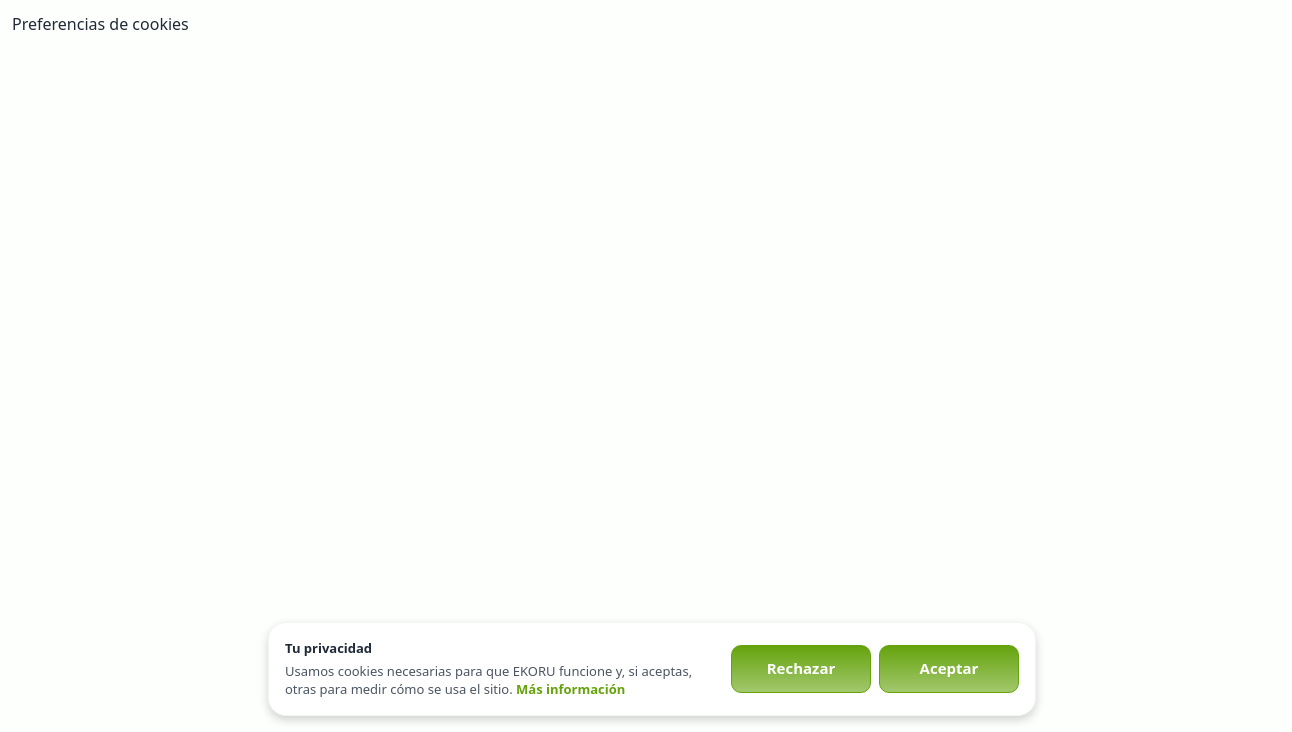
Test: ConsentBanner › stores a refusal just as easily
This screenshot has width=1292, height=732.
Click the button "Rechazar". click: (801, 669)
box: [731,645,871,693]
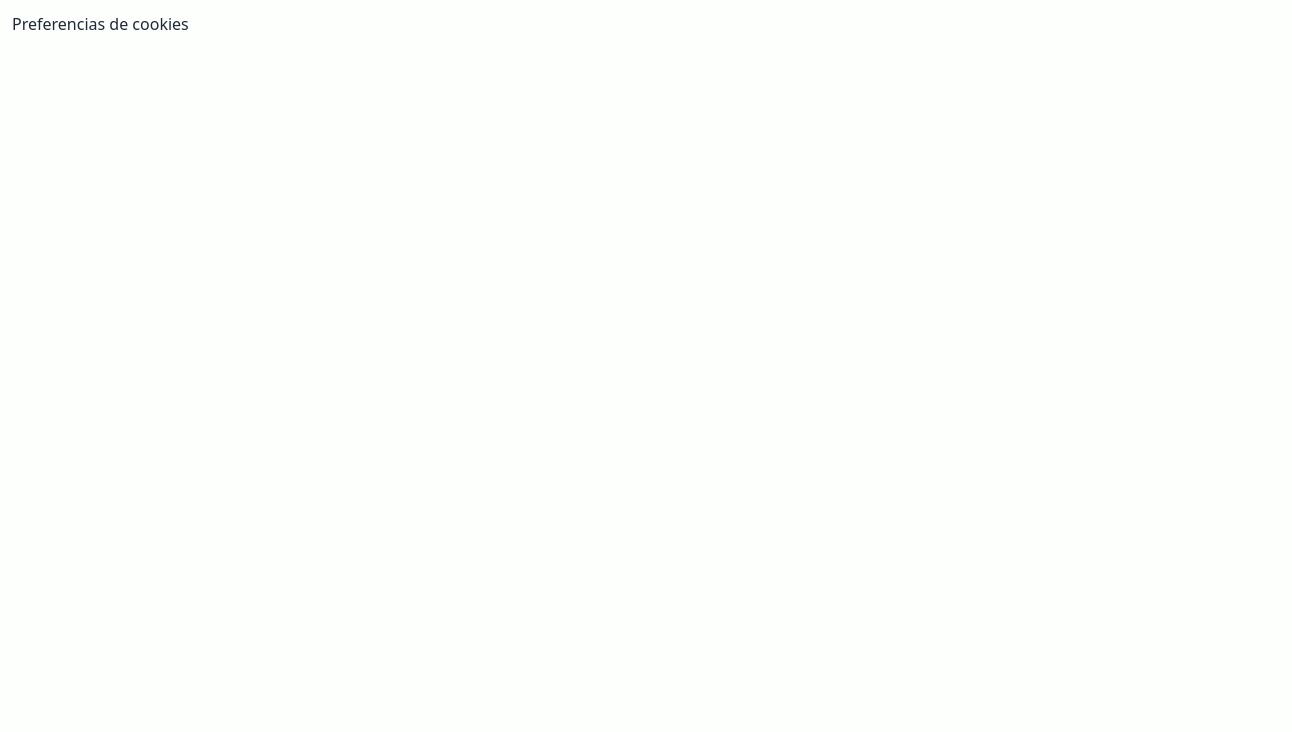
Now the heading "Tu privacidad" is gone
